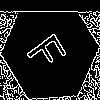F: (25, 25, 75, 77)
